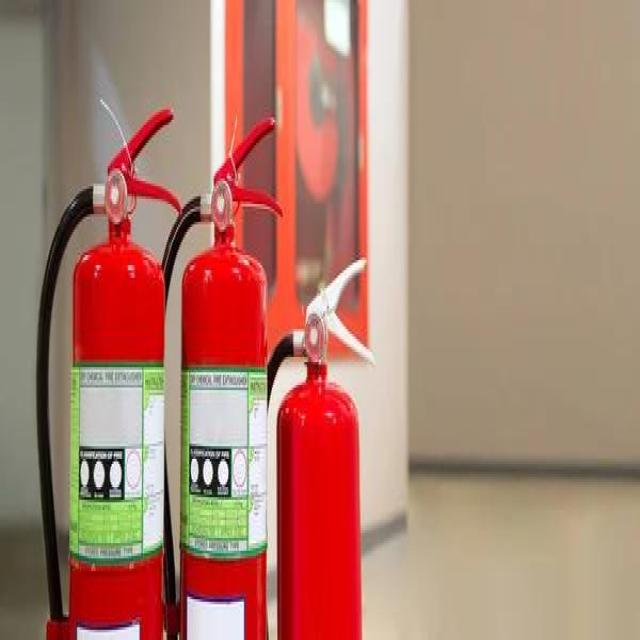fire_extinguisher: (28, 100, 183, 638), (144, 110, 286, 638), (241, 250, 381, 637)
